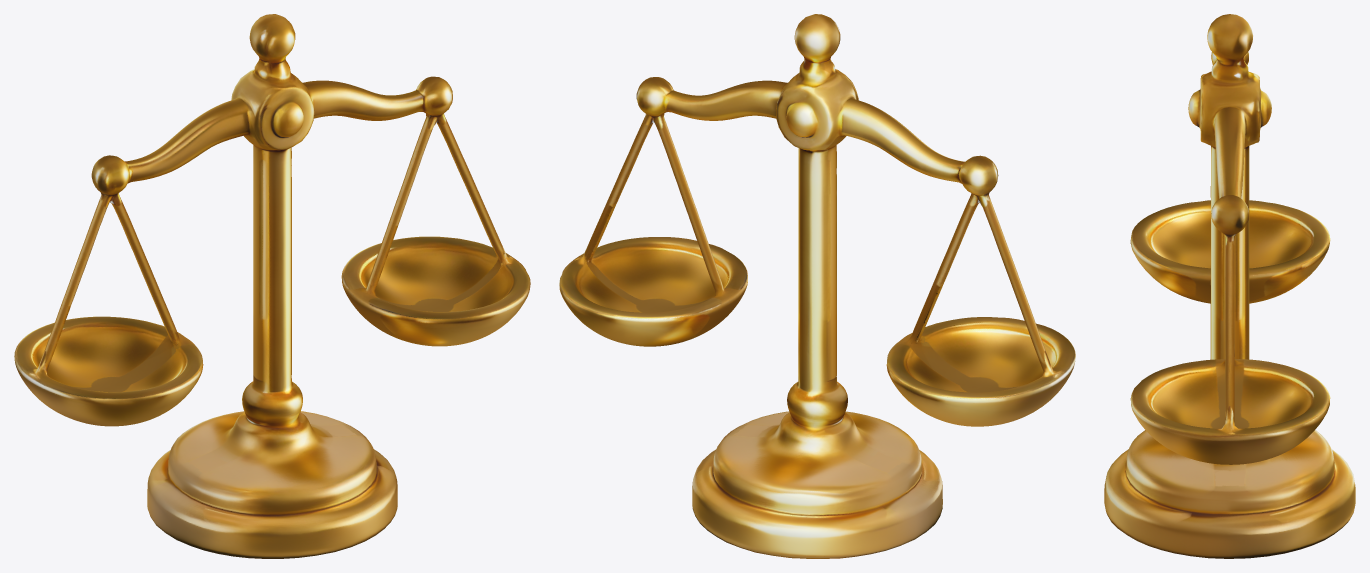
File: base_basic_shaded.glb
3 views of the same model, side by side, from view 1: azimuth 30°, elevation 25°; view 2: azimuth 150°, elevation 25°; view 3: azimuth 270°, elevation 25° (orthographic).
Parts seen in each view (by area): view 1: model; view 2: model; view 3: model.
Part boxes in pixels (<box>): model: <box>14,14,530,558</box>; model: <box>559,14,1075,558</box>; model: <box>1104,14,1355,558</box>.
Size of the model in its own units: 1.9 by 1.84 by 0.8509.
1 material, 1 textured.
